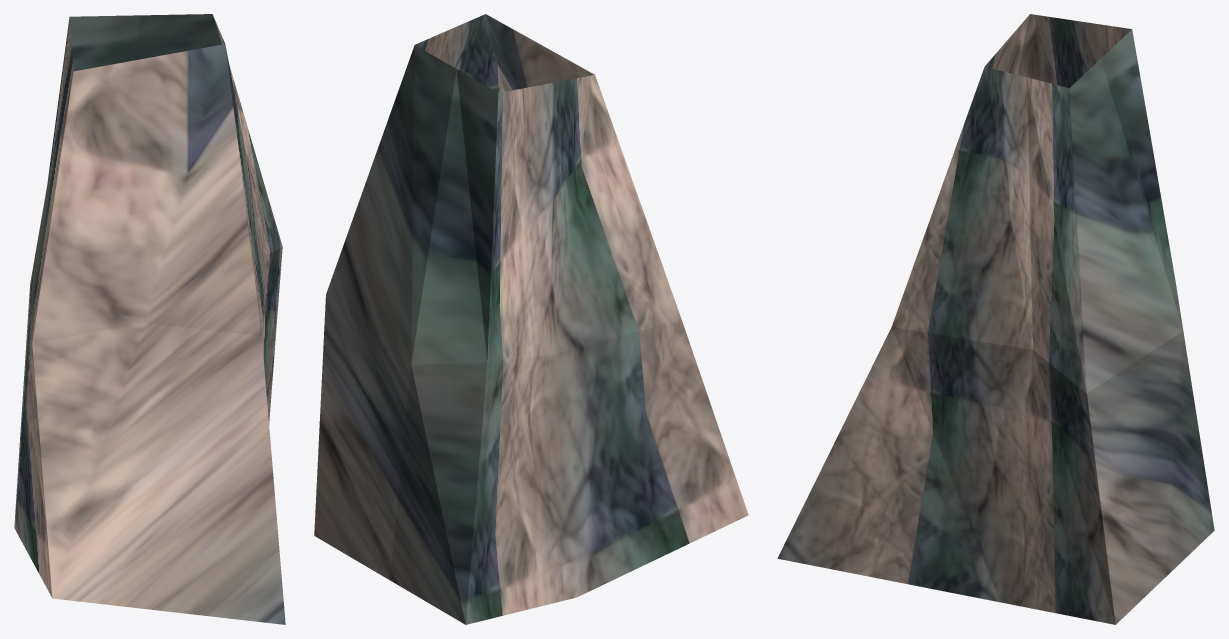
Rendered from Ridge_9_Lat.gltf.
3 views of the same model, side by side, from view 1: azimuth 30°, elevation 25°; view 2: azimuth 150°, elevation 25°; view 3: azimuth 270°, elevation 25° (orthographic). The views are drawn at different scales.
Visible parts, largest first — view 1: Ridge_9_Lat; view 2: Ridge_9_Lat; view 3: Ridge_9_Lat.
Boxes of the visible parts, x1=… form: Ridge_9_Lat: x1=14, y1=14, x2=285, y2=624; Ridge_9_Lat: x1=314, y1=14, x2=748, y2=624; Ridge_9_Lat: x1=777, y1=14, x2=1214, y2=624.
Size of the model in its own units: 25.3 by 37.69 by 28.85.
1 material, 1 textured.
